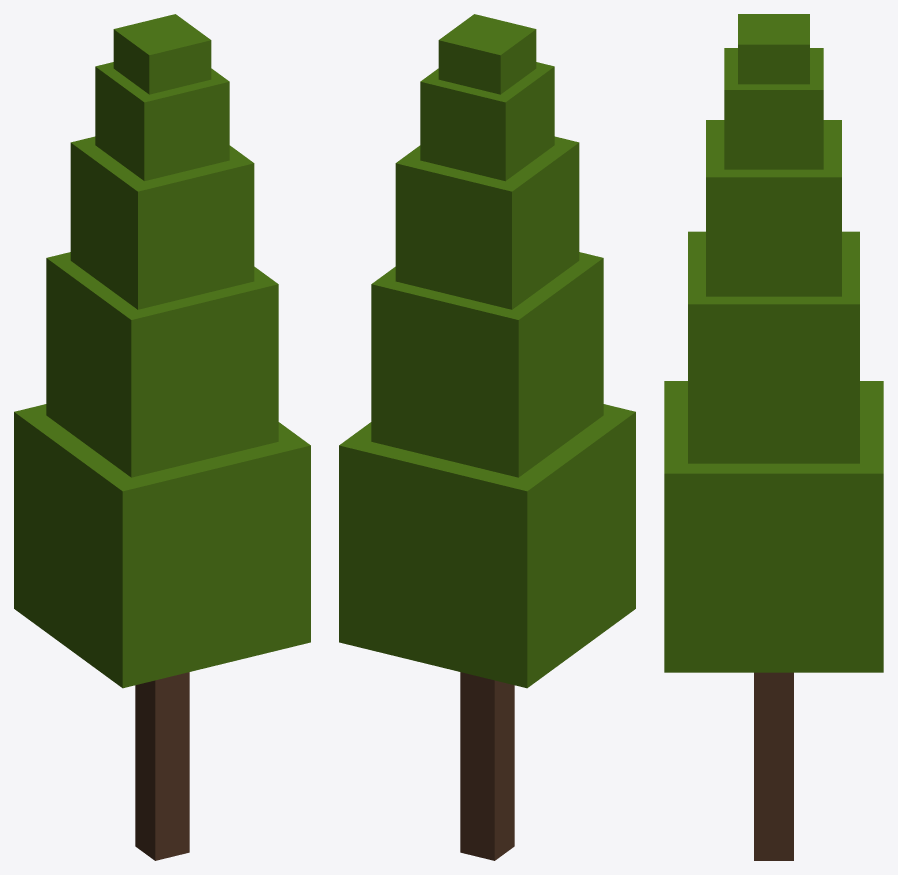
Rendered from longtree.fbx.
3 renders of one model, left to right at view 1: azimuth 30°, elevation 25°; view 2: azimuth 150°, elevation 25°; view 3: azimuth 270°, elevation 25°, orthographic.
Parts seen in each view (by area): view 1: tree+; view 2: tree+; view 3: tree+.
Boxes of the visible parts, left/top/right/bottom form: tree+: left=14, top=14, right=310, bottom=860; tree+: left=339, top=14, right=635, bottom=860; tree+: left=664, top=14, right=883, bottom=860.
Bounding box in the file's own units: 100 × 414 × 100.
